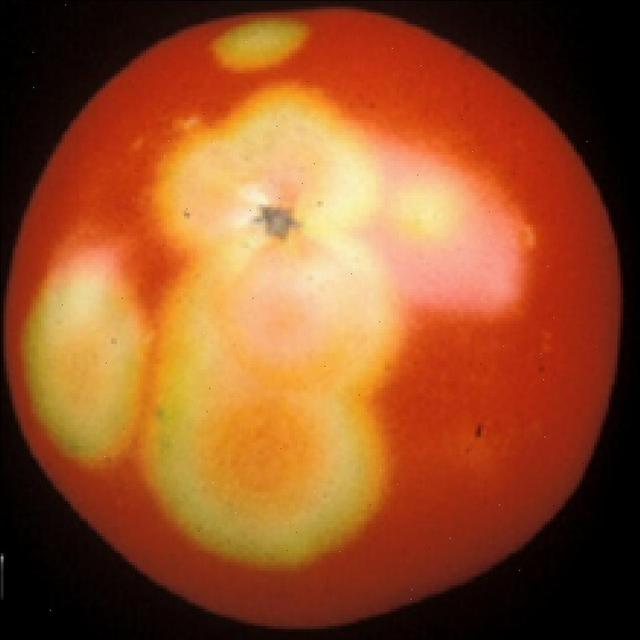Spotted wilt Virus Fruit: (2, 4, 415, 421)
